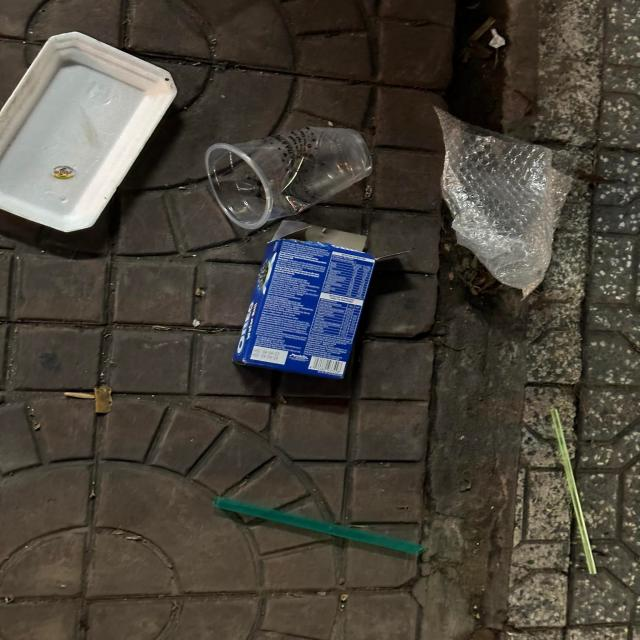bag: (432, 105, 572, 302)
cardboard box: (232, 220, 376, 380)
drinking straw: (213, 496, 426, 555), (550, 408, 598, 574)
foam box: (0, 31, 178, 232)
plastic glass: (204, 125, 373, 230)
